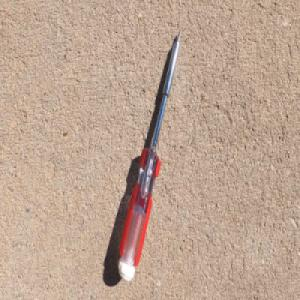Screwdriver: (118, 27, 183, 283)
